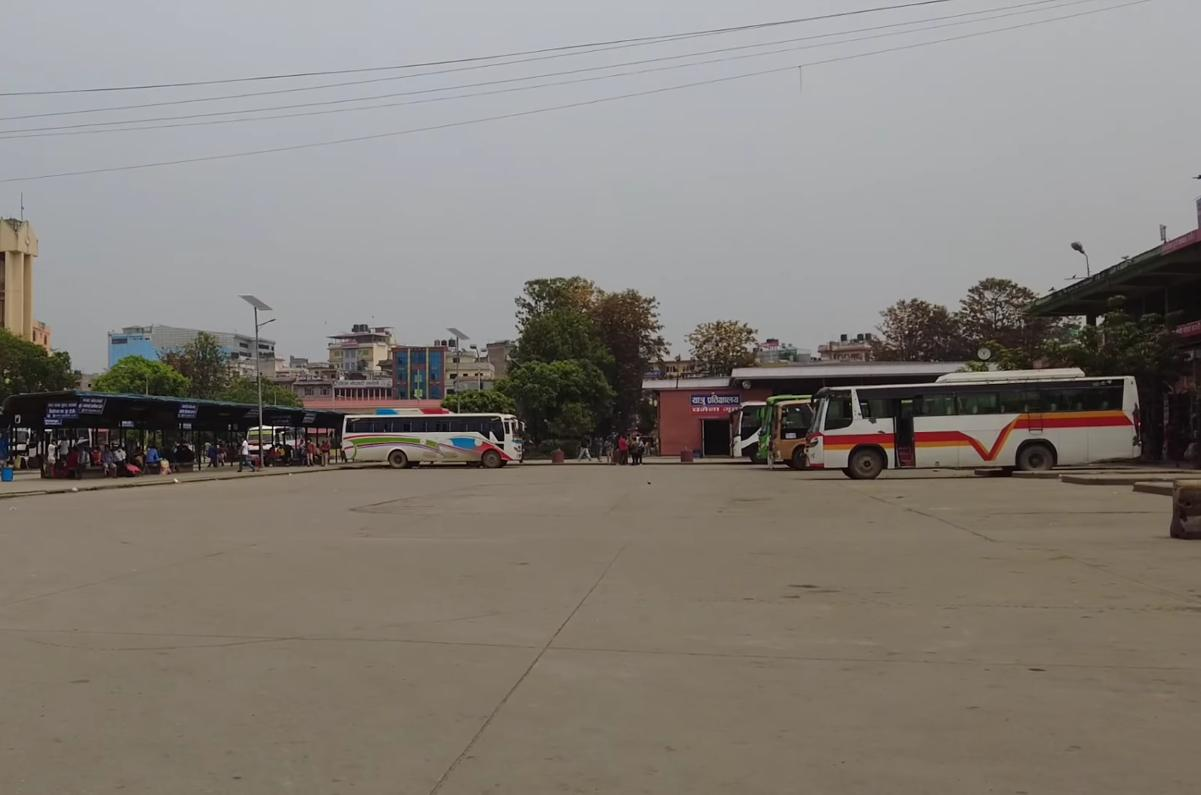bus: (803, 362, 1149, 491), (336, 409, 531, 478)
